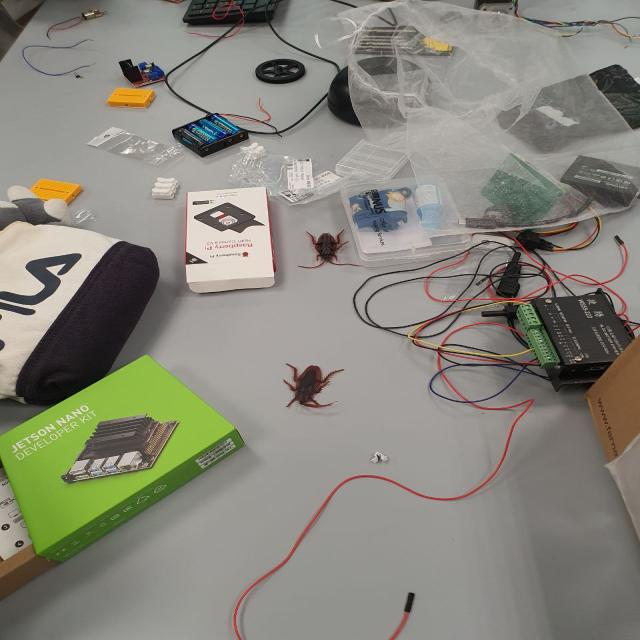Cockroach: (291, 216, 378, 284), (275, 346, 350, 418)
